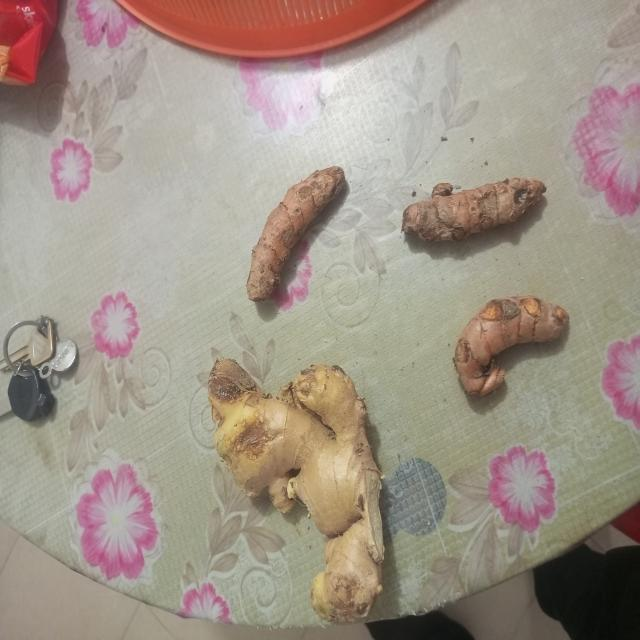ginger: (215, 360, 376, 614), (248, 169, 342, 296), (458, 296, 566, 396), (407, 182, 545, 242)
